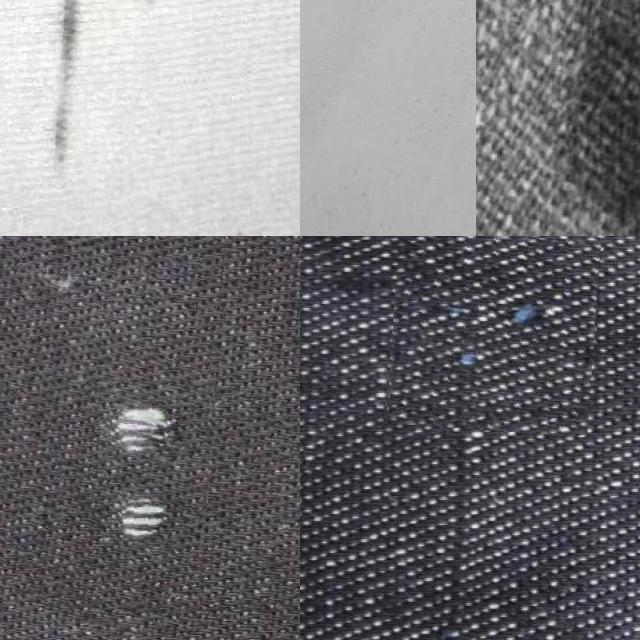Thread_other: (300, 0, 418, 236)
stains: (0, 236, 219, 627), (388, 236, 596, 433)
